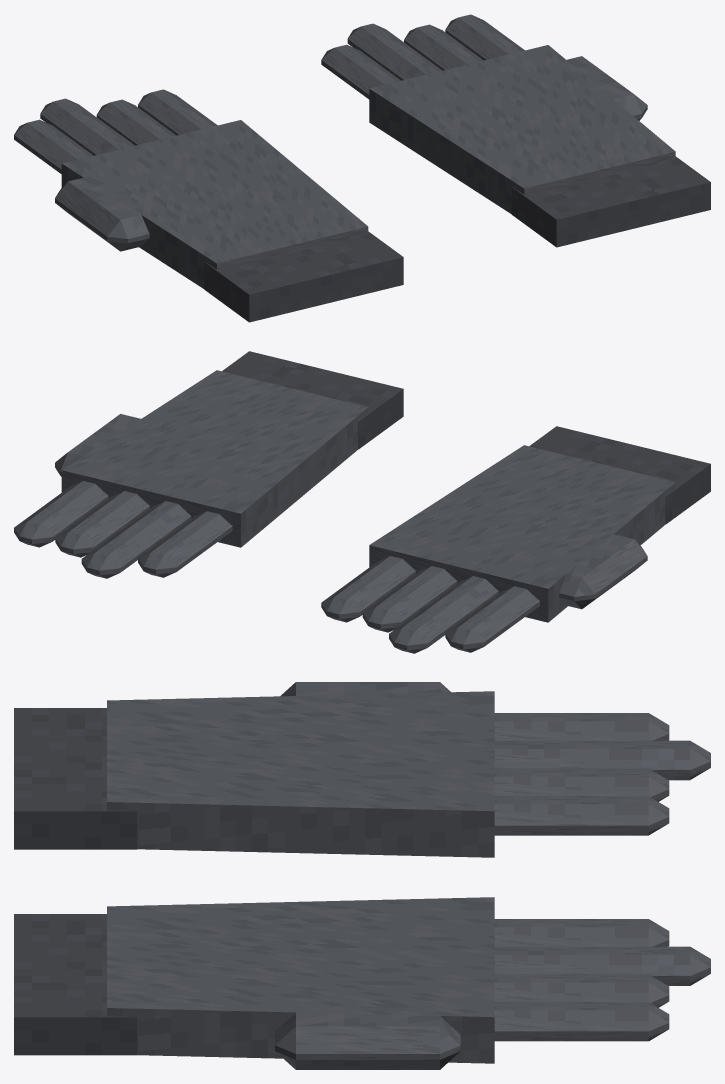
File: gloves_black.glb
3 views of the same model, one above another, from view 1: azimuth 30°, elevation 25°; view 2: azimuth 150°, elevation 25°; view 3: azimuth 270°, elevation 25° (orthographic). The views are drawn at different scales.
Parts seen in each view (by area): view 1: block_glove palm (×2), block_cuff (×2), block_finger (×8), block_thumb (×2); view 2: block_glove palm (×2), block_finger (×8), block_cuff (×2), block_thumb (×2); view 3: block_glove palm (×2), block_finger (×8), block_cuff (×2), block_thumb (×2).
Part boxes in pixels (bbox=[...]): block_glove palm (×2): bbox=[61, 45, 675, 288]; block_cuff (×2): bbox=[204, 156, 710, 322]; block_finger (×8): bbox=[14, 14, 524, 173]; block_thumb (×2): bbox=[55, 56, 647, 251]; block_glove palm (×2): bbox=[61, 370, 675, 622]; block_finger (×8): bbox=[14, 481, 539, 653]; block_cuff (×2): bbox=[222, 351, 710, 524]; block_thumb (×2): bbox=[55, 414, 647, 609]; block_glove palm (×2): bbox=[107, 691, 494, 1063]; block_finger (×8): bbox=[494, 713, 710, 1041]; block_cuff (×2): bbox=[14, 708, 137, 1055]; block_thumb (×2): bbox=[275, 682, 460, 1069].
Bounding box in the file's own units: 0.1953 × 0.0117 × 0.1589.
1 material, 1 textured.
